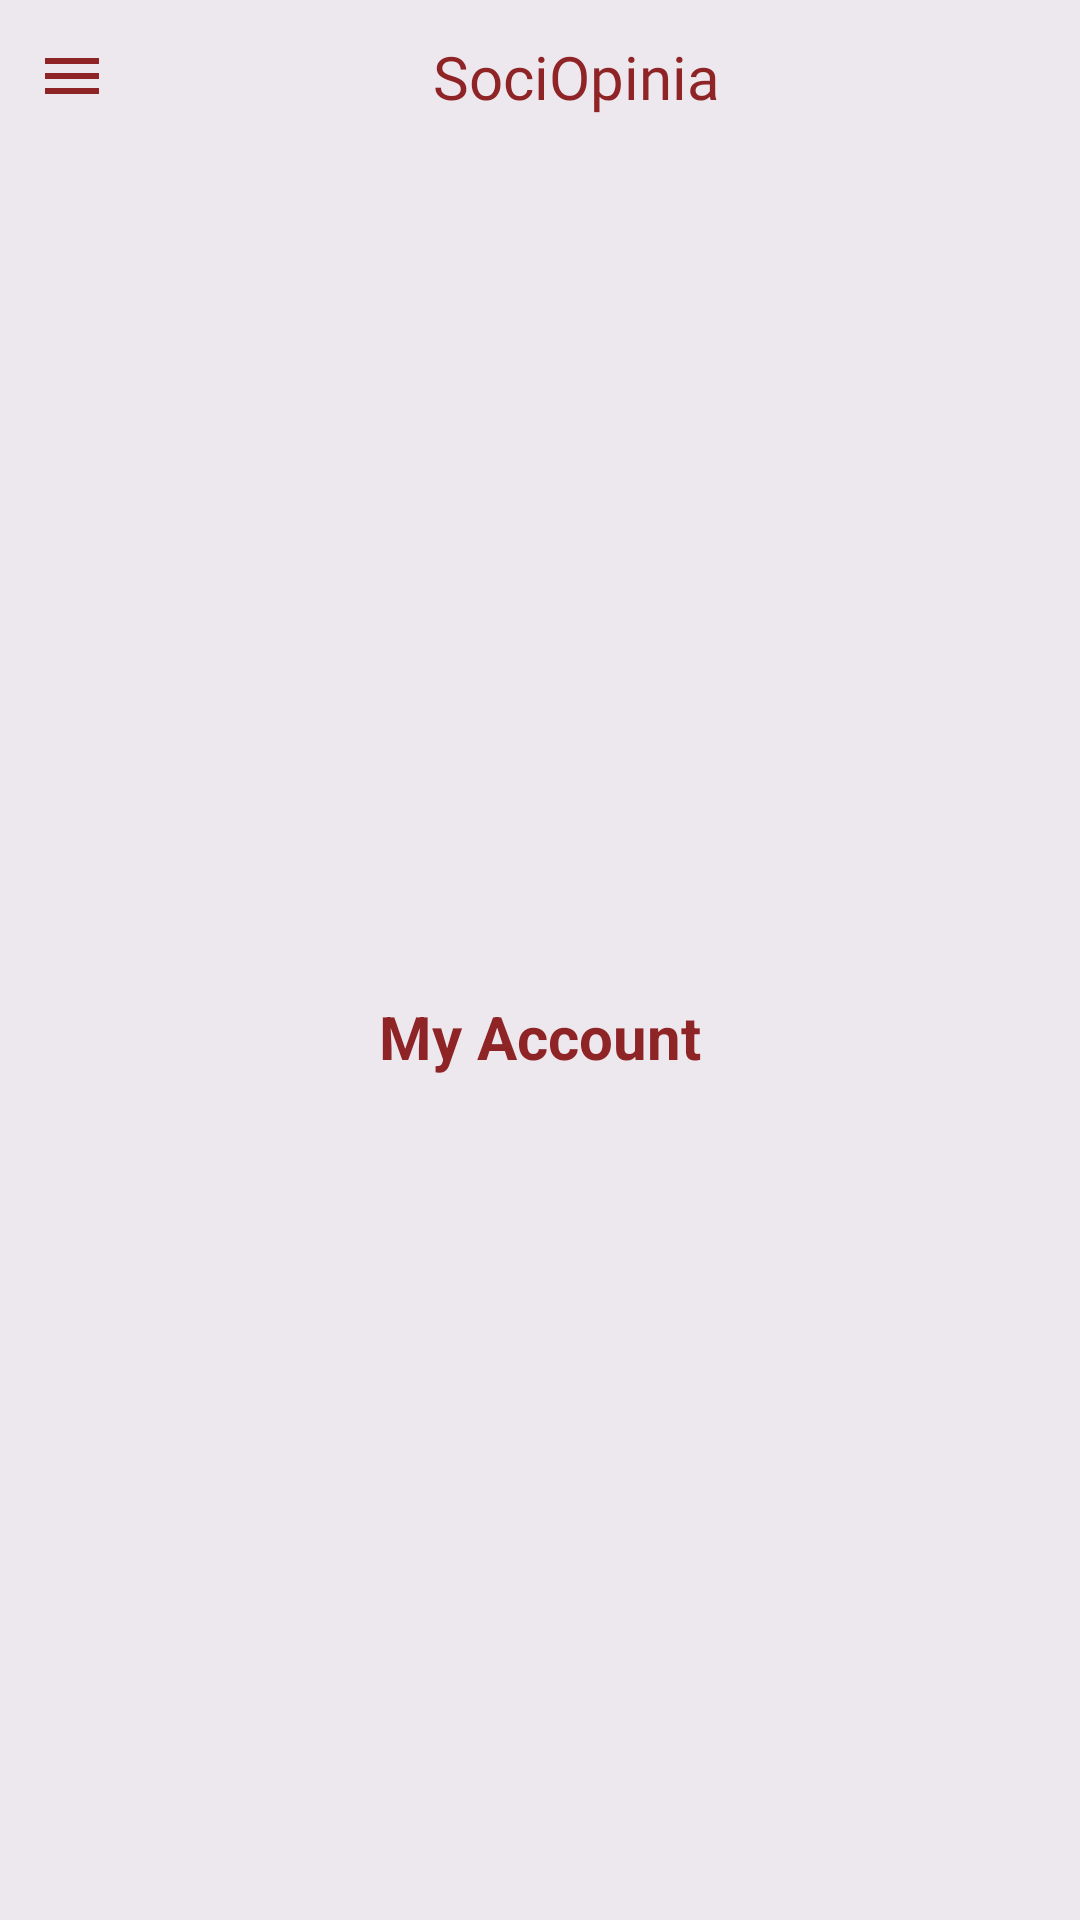

Icons on this 1080 x 1920 Android screen, each with the point to tap as point (x, y):
menutoggle: point (72, 76)
